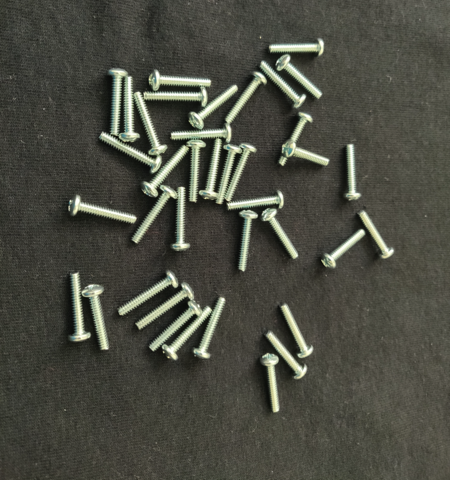longscrew: (116, 268, 182, 318), (133, 281, 198, 330), (147, 298, 204, 352), (161, 305, 214, 362), (128, 185, 179, 244), (96, 130, 164, 173), (142, 143, 191, 200), (132, 89, 169, 158), (262, 329, 309, 382), (224, 70, 267, 127), (258, 60, 308, 109), (193, 294, 229, 362), (273, 54, 325, 100), (65, 195, 137, 227), (319, 226, 369, 272), (187, 84, 239, 128), (278, 300, 316, 360), (81, 282, 112, 354), (258, 207, 299, 261), (277, 112, 314, 169), (357, 208, 395, 261), (224, 142, 257, 202), (215, 142, 245, 207), (66, 271, 92, 344), (199, 135, 225, 203), (105, 66, 129, 139), (118, 75, 142, 145), (258, 354, 283, 416), (225, 188, 286, 213), (170, 184, 192, 253), (141, 87, 209, 109), (184, 139, 208, 201), (147, 69, 213, 91), (237, 208, 258, 276), (282, 141, 332, 168), (171, 123, 235, 144), (341, 141, 362, 204), (267, 39, 326, 59)
